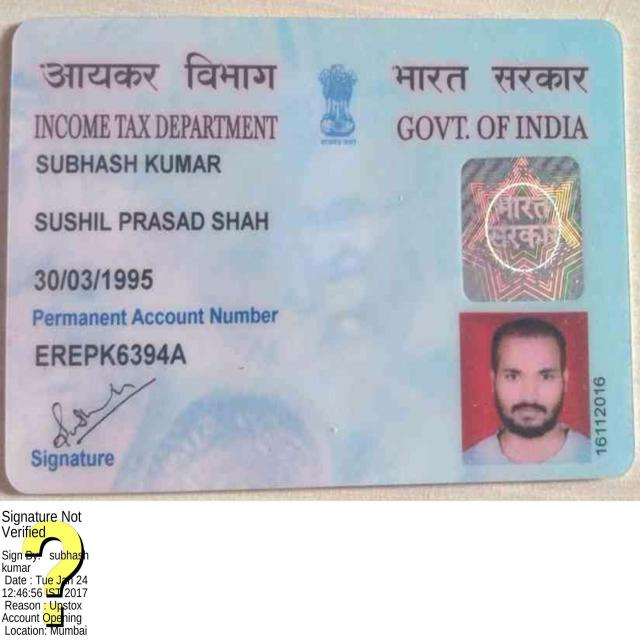pan_card: (14, 25, 629, 485)
